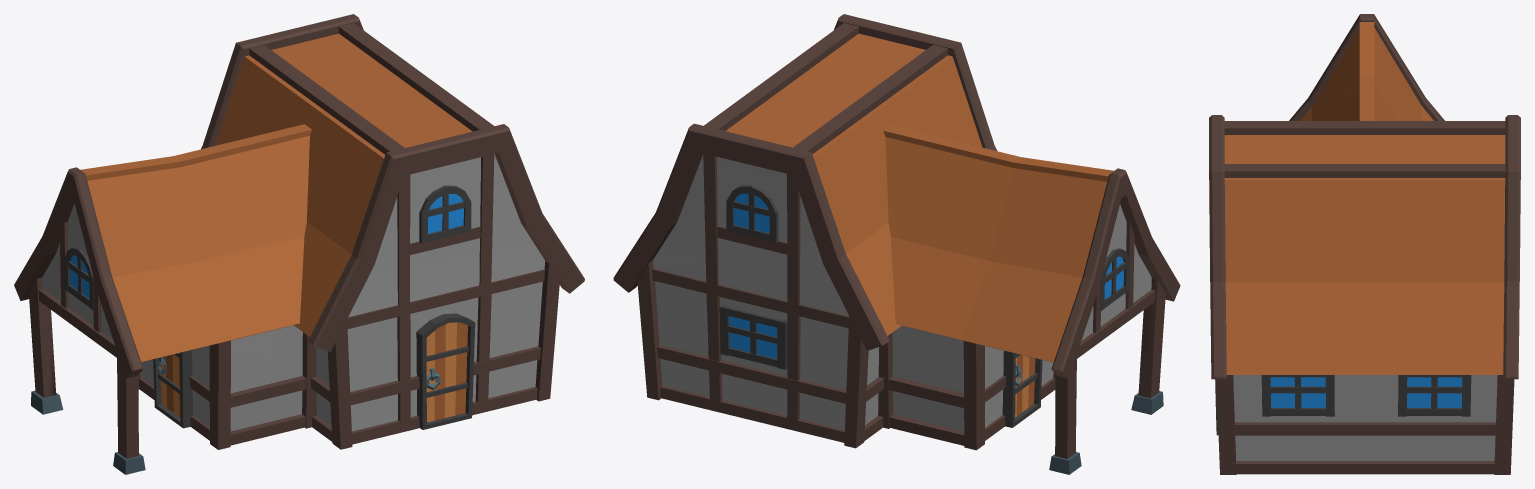
Rendered from House_4-1.fbx.
The picture shows the model from 3 angles, left to right: view 1: azimuth 30°, elevation 25°; view 2: azimuth 150°, elevation 25°; view 3: azimuth 270°, elevation 25°; orthographic projection.
Parts seen in each view (by area): view 1: Town_BG_Bd_House06_A.004; view 2: Town_BG_Bd_House06_A.004; view 3: Town_BG_Bd_House06_A.004.
Boxes of the visible parts, bbox=[...] form: Town_BG_Bd_House06_A.004: bbox=[14, 14, 584, 474]; Town_BG_Bd_House06_A.004: bbox=[613, 14, 1180, 474]; Town_BG_Bd_House06_A.004: bbox=[1209, 14, 1520, 474].
Size of the model in its own units: 896 by 559 by 562.
